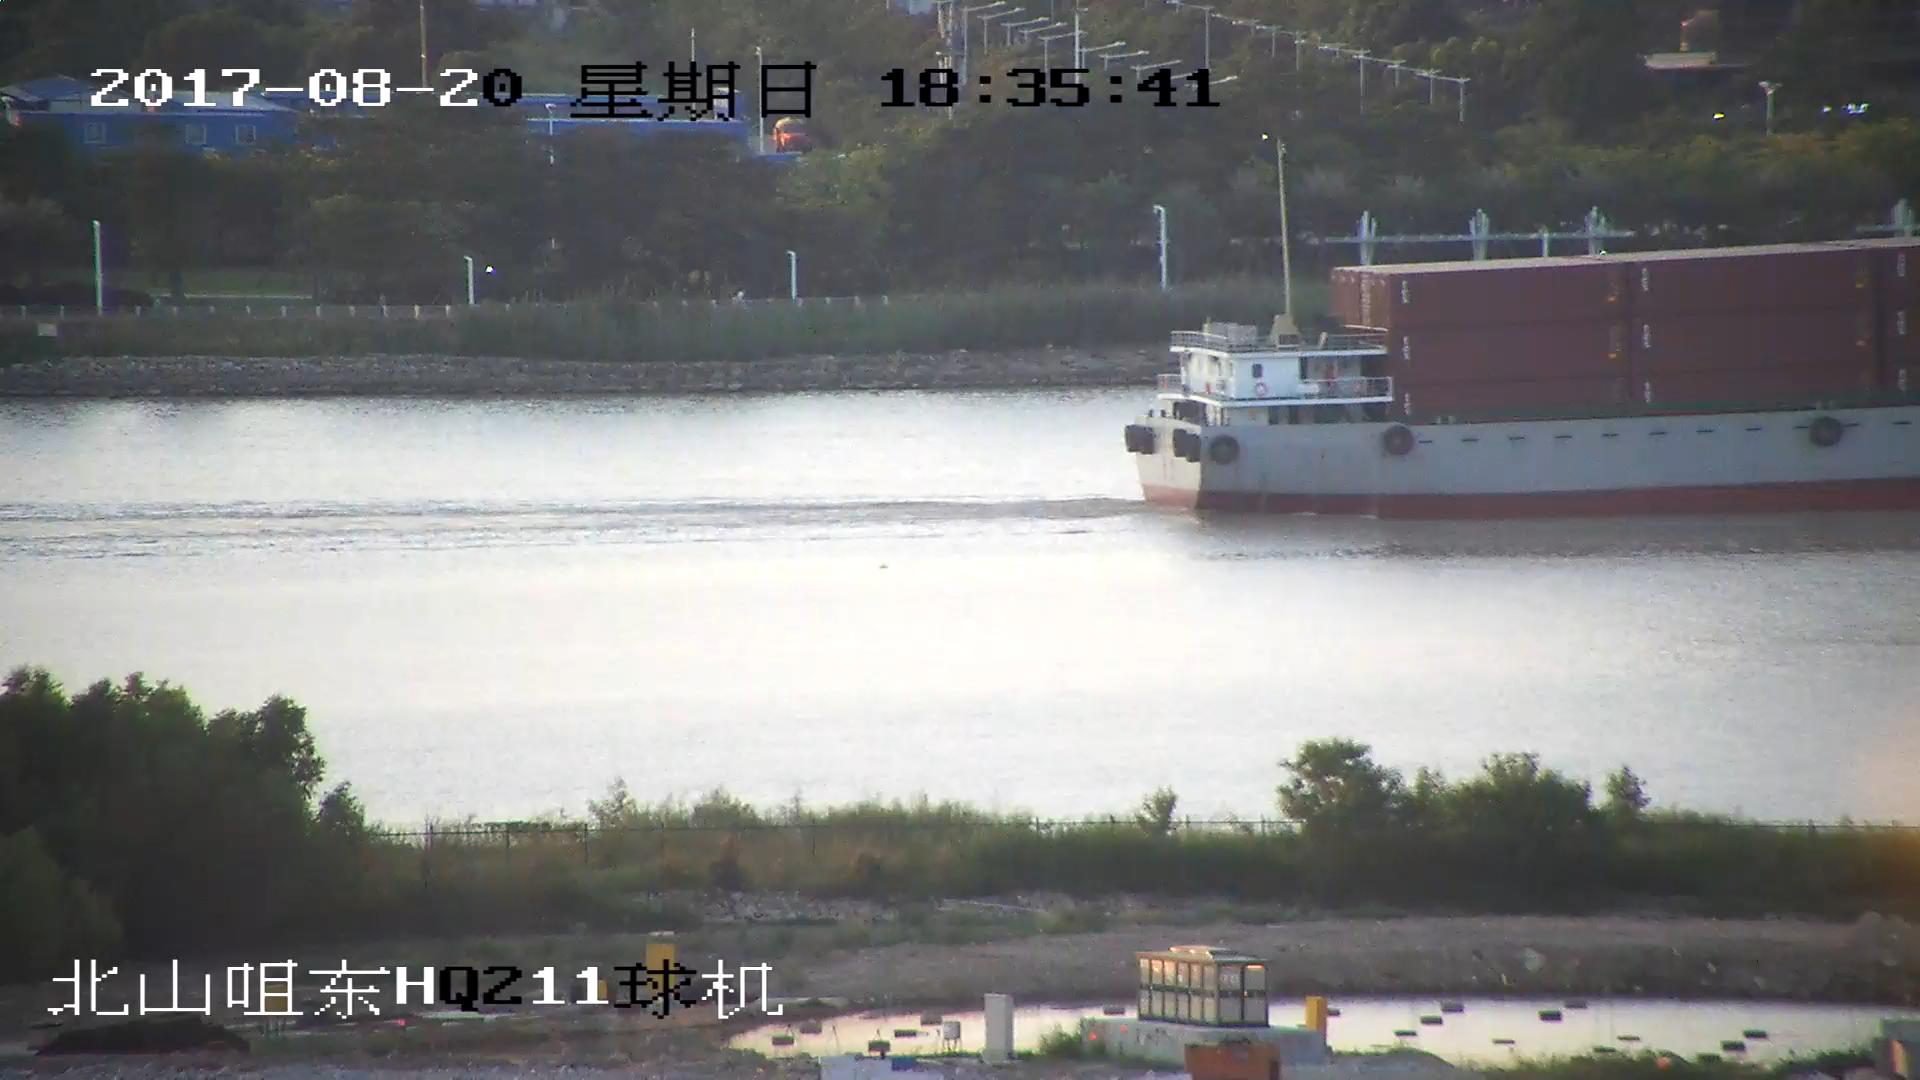container ship: (1124, 242, 1920, 522)
